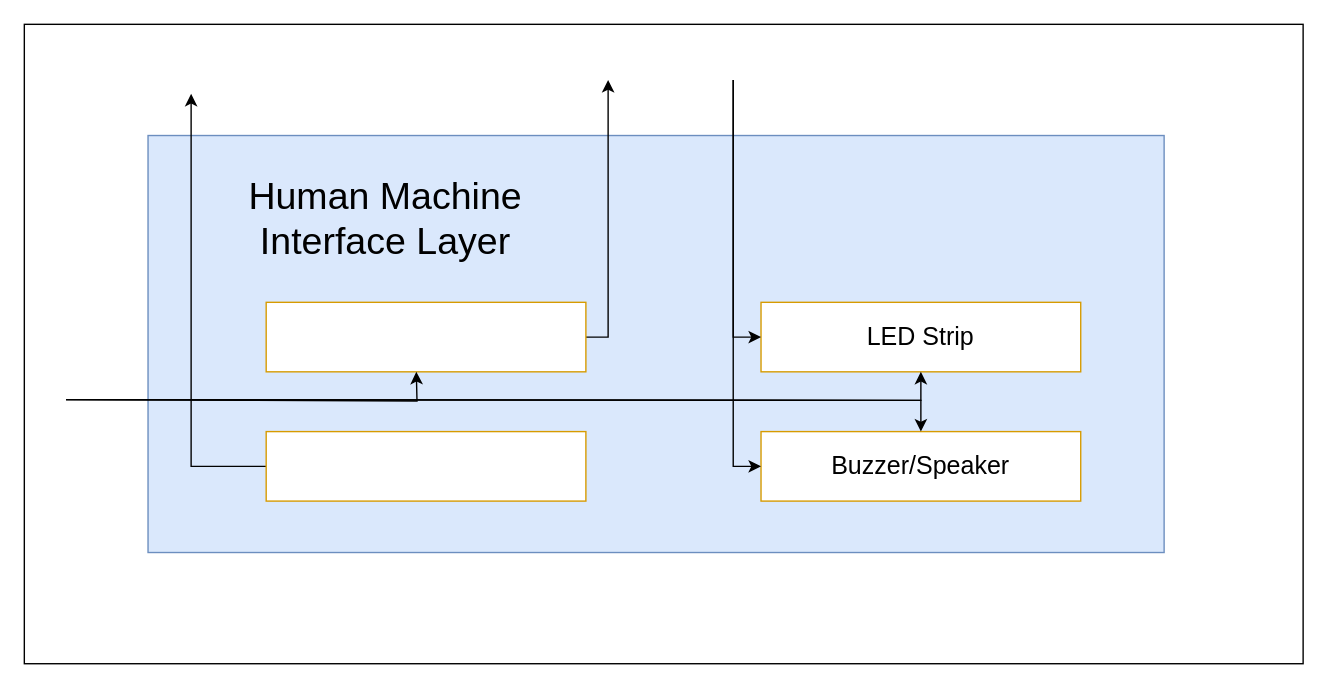
Some shapes in this 1327 by 699 pixel diagram are drawn without their labels. The centre of each missing label's shape, as x and y in pixels:
Follow Anklet: pixel 425 465
Weight Sensor: pixel 425 336
